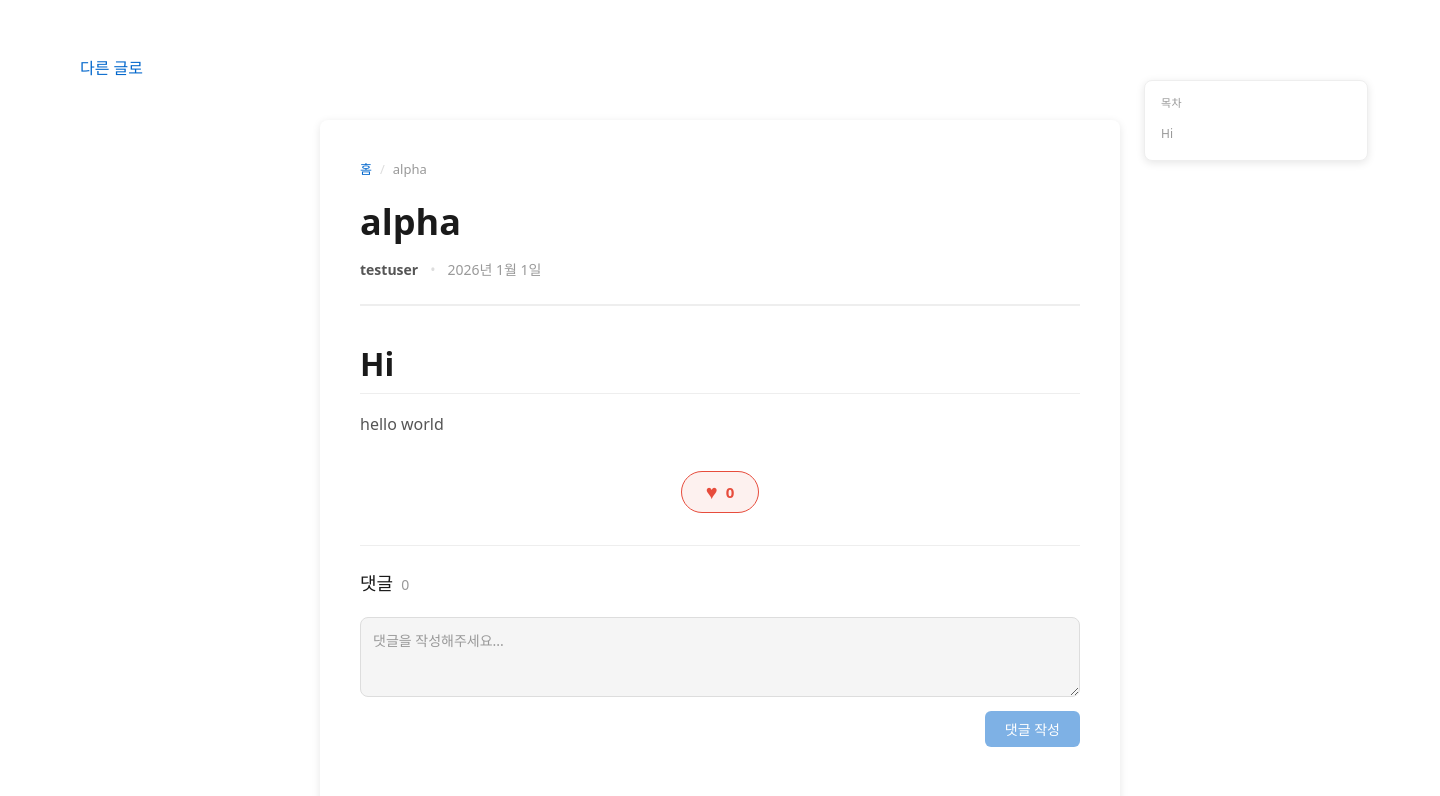
Scenario: PostDetailPage 글 사이 이동 › 좋아요한 글에서 넘어가면 다음 글의 좋아요 상태로 바뀐다
Expected: the heading "alpha" is shown, [360,196,461,246]
Expected: the button titled "좋아요 취소" shows "♥", [681,471,759,513]
Click the link "다른 글로".
click(112, 68)  # box [80,57,143,79]
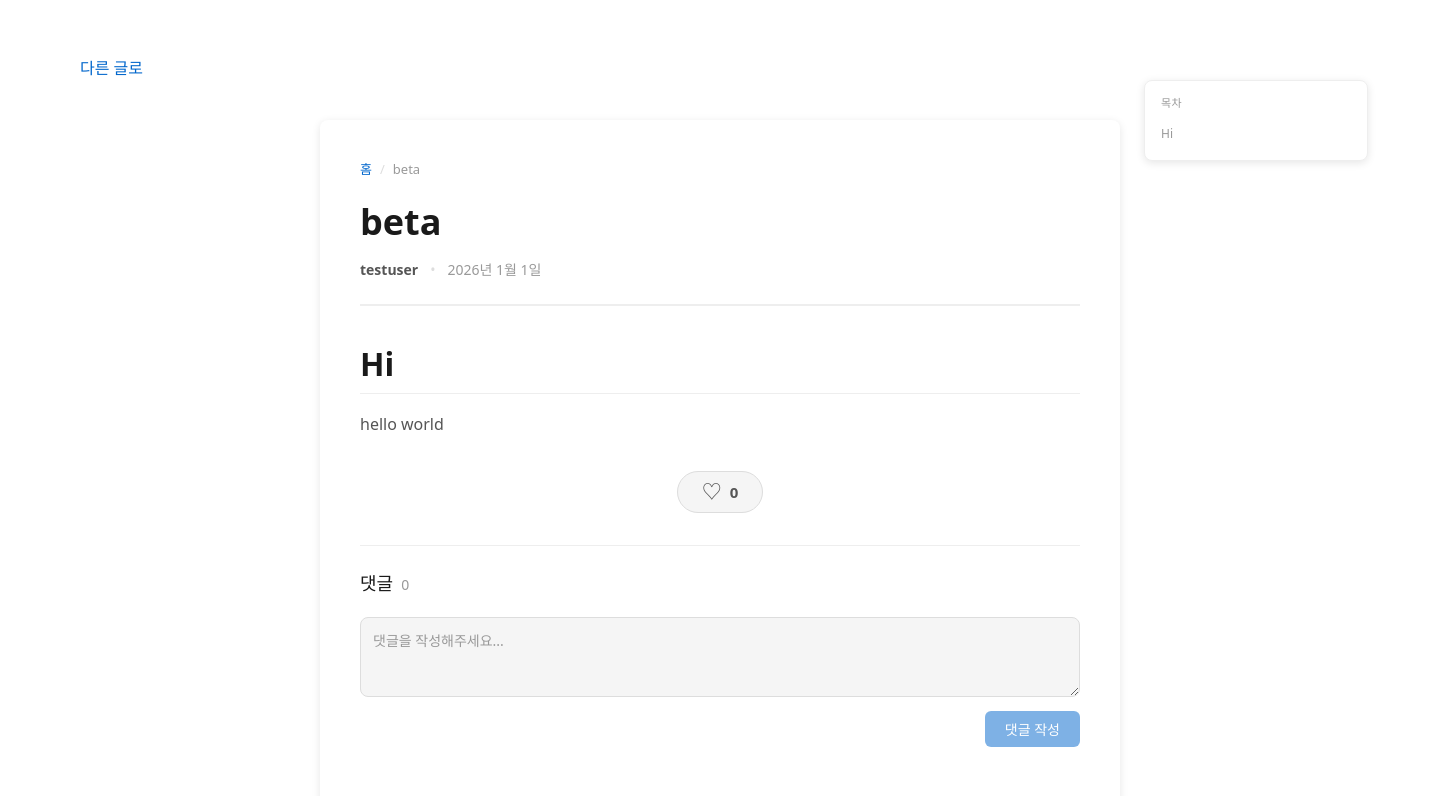
Now the heading "beta" is shown, box [360,196,441,246]
Now the button titled "좋아요" shows "♡", box [677,471,763,513]
